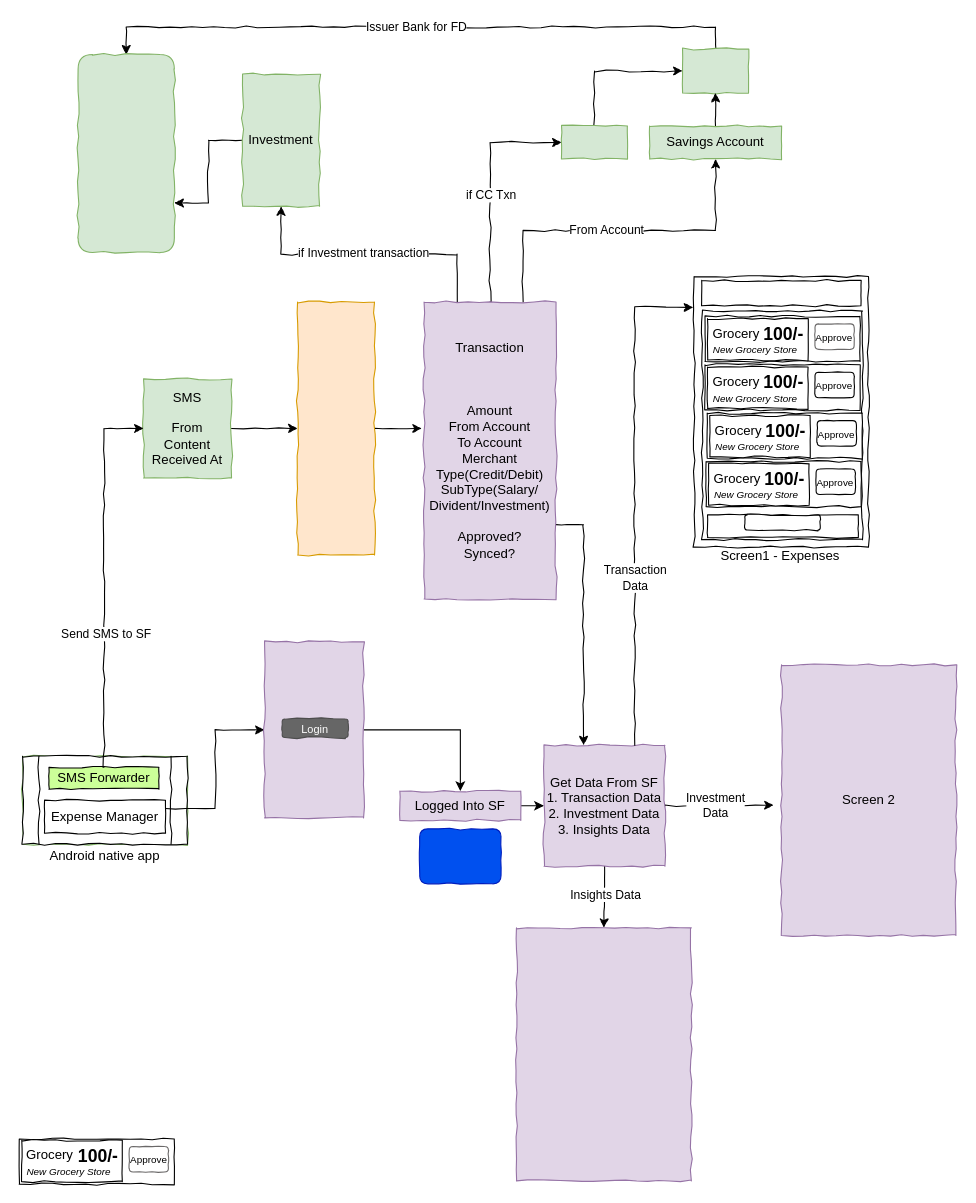
This 976x1203 diagram has some shape labels left out. The shapes that lost their labels are listed below. From the top down, each one's centre as x and y in pixels, then its label:
At pixel 715 70: "Bank".
At pixel 125 152: "Investment Assets Type = MF/Stock/ NPS/etc".
At pixel 594 142: "CCard".
At pixel 781 292: "Today's Expenses".
At pixel 335 428: "Flow to create Transaction Record From SMS record".
At pixel 782 522: "Approve All".
At pixel 460 856: "OTP Login (Later)".
At pixel 603 1054: "Screen 3".
